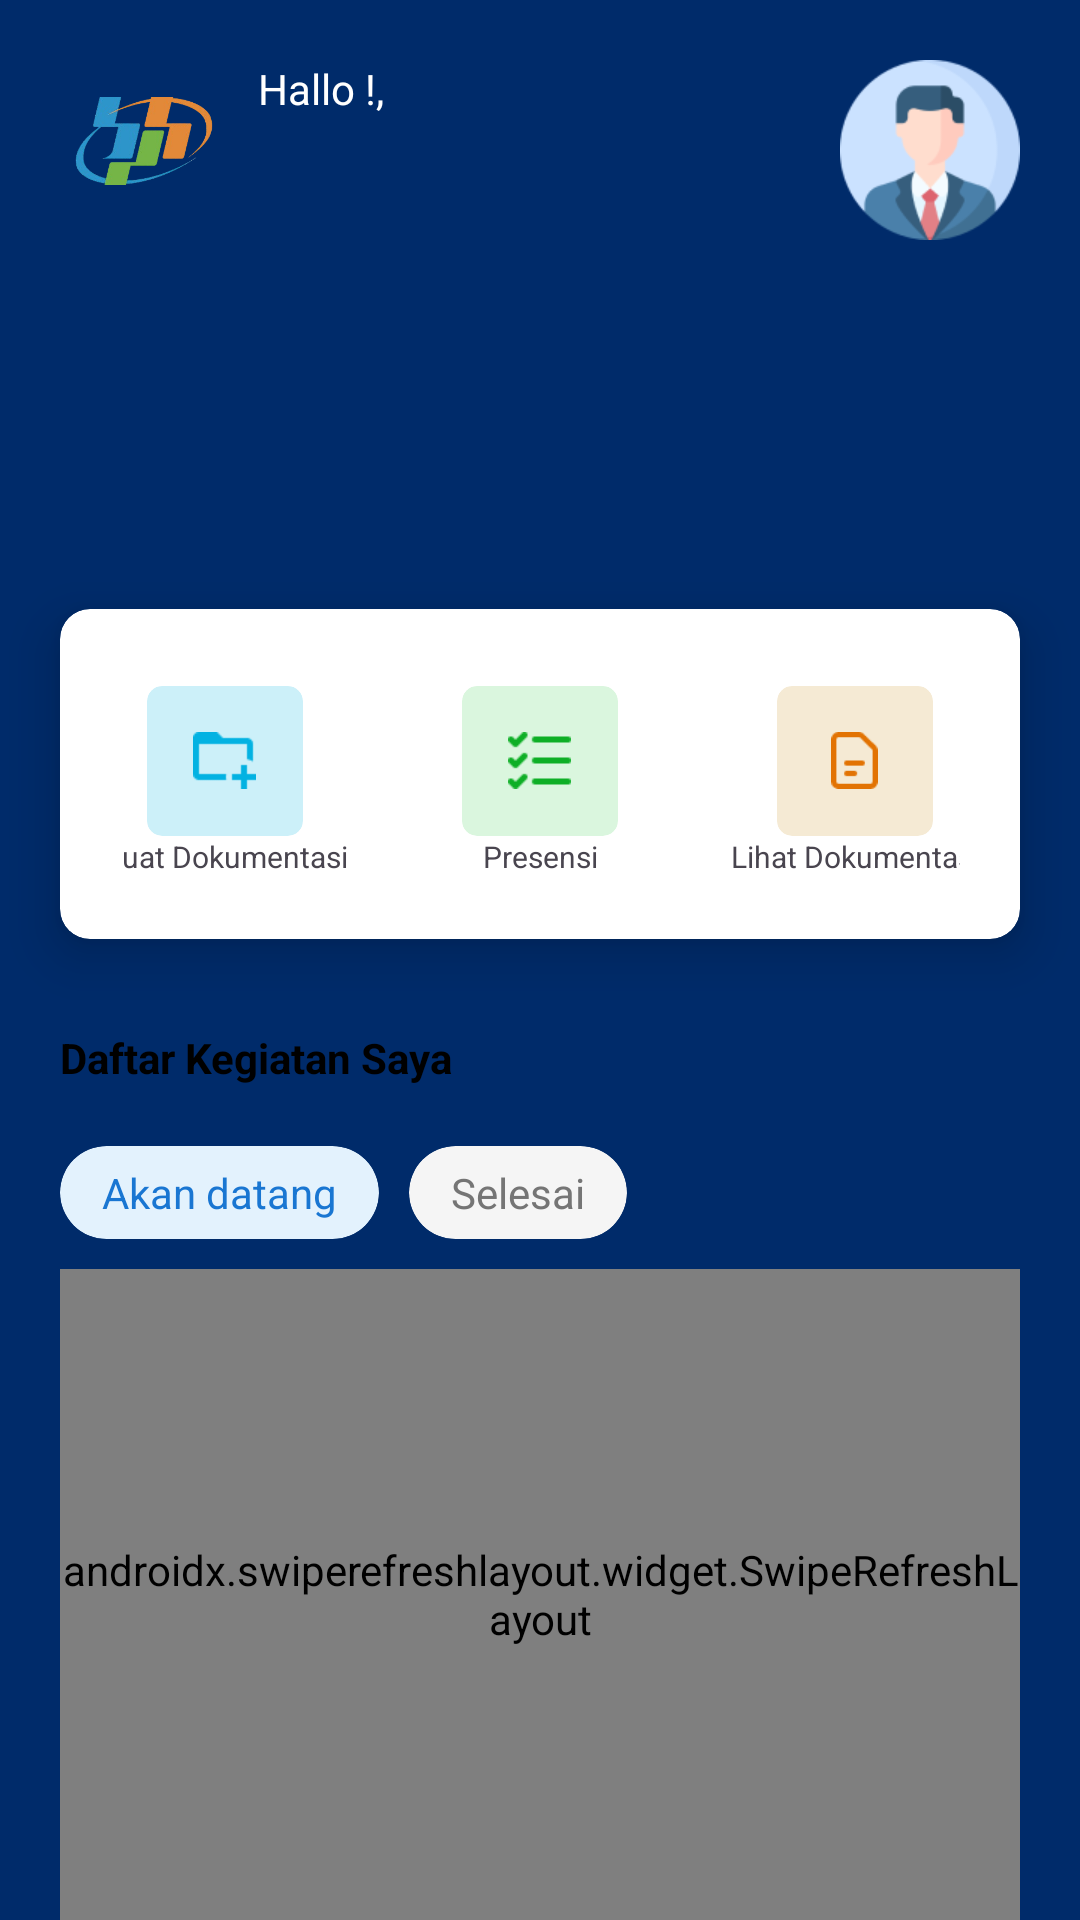

Point at icon controls on the screen. Image size 1080*1920, points as [x,y].
profile: [930,150]
